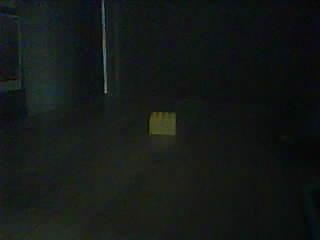lego: (149, 111, 177, 136)
